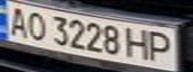2: (84, 20, 106, 54), (66, 17, 87, 52)
3: (45, 14, 72, 47)
8: (103, 22, 124, 56)
A: (3, 4, 30, 37)
H: (124, 26, 154, 61)
O: (21, 10, 48, 42)
P: (145, 29, 178, 63)
